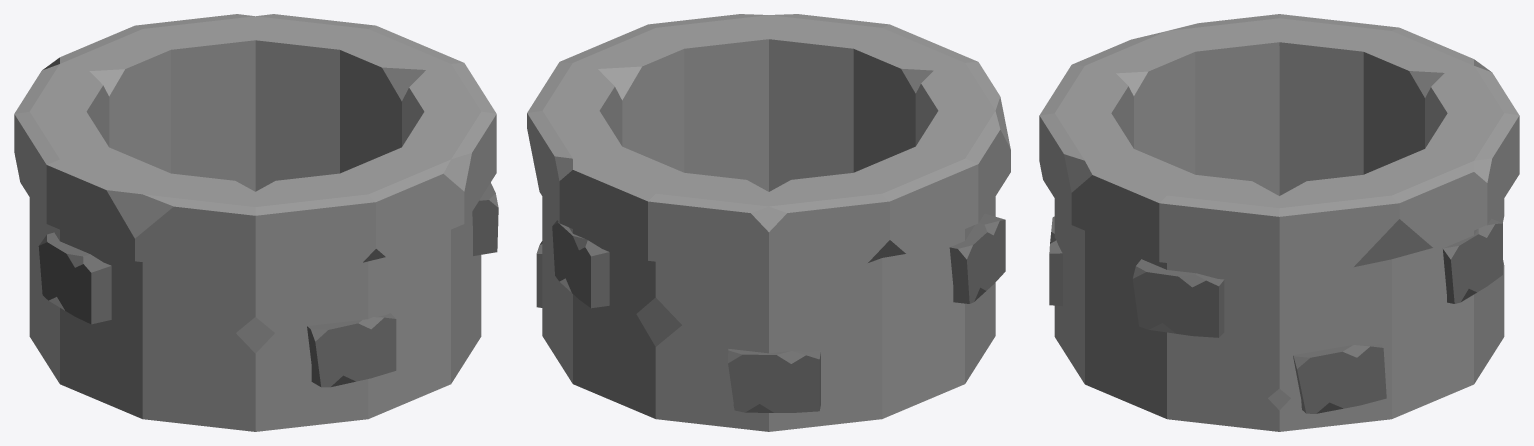
The model's file is Well.fbx.
3 views of the same model, side by side, from view 1: azimuth 30°, elevation 25°; view 2: azimuth 150°, elevation 25°; view 3: azimuth 270°, elevation 25° (orthographic).
Parts seen in each view (by area): view 1: Circle, Cube.005, Cube.004, Cube; view 2: Circle, Cube.003, Cube.004, Cube.002; view 3: Circle, Cube, Cube.001, Cube.002, Cube.005.
Boxes of the visible parts, x1,y1,x2,y2 form: Circle: (14, 14, 496, 431); Cube.005: (307, 313, 396, 387); Cube.004: (38, 232, 111, 324); Cube: (472, 182, 498, 255); Circle: (527, 14, 1010, 431); Cube.003: (728, 349, 820, 412); Cube.004: (949, 213, 1005, 303); Cube.002: (552, 220, 609, 308); Circle: (1039, 14, 1519, 431); Cube: (1132, 259, 1224, 337); Cube.001: (1293, 343, 1386, 413); Cube.002: (1442, 218, 1502, 303); Cube.005: (1049, 216, 1062, 305).
Bounding box in the file's own units: 629 × 323 × 629.
1 material, 1 textured.
